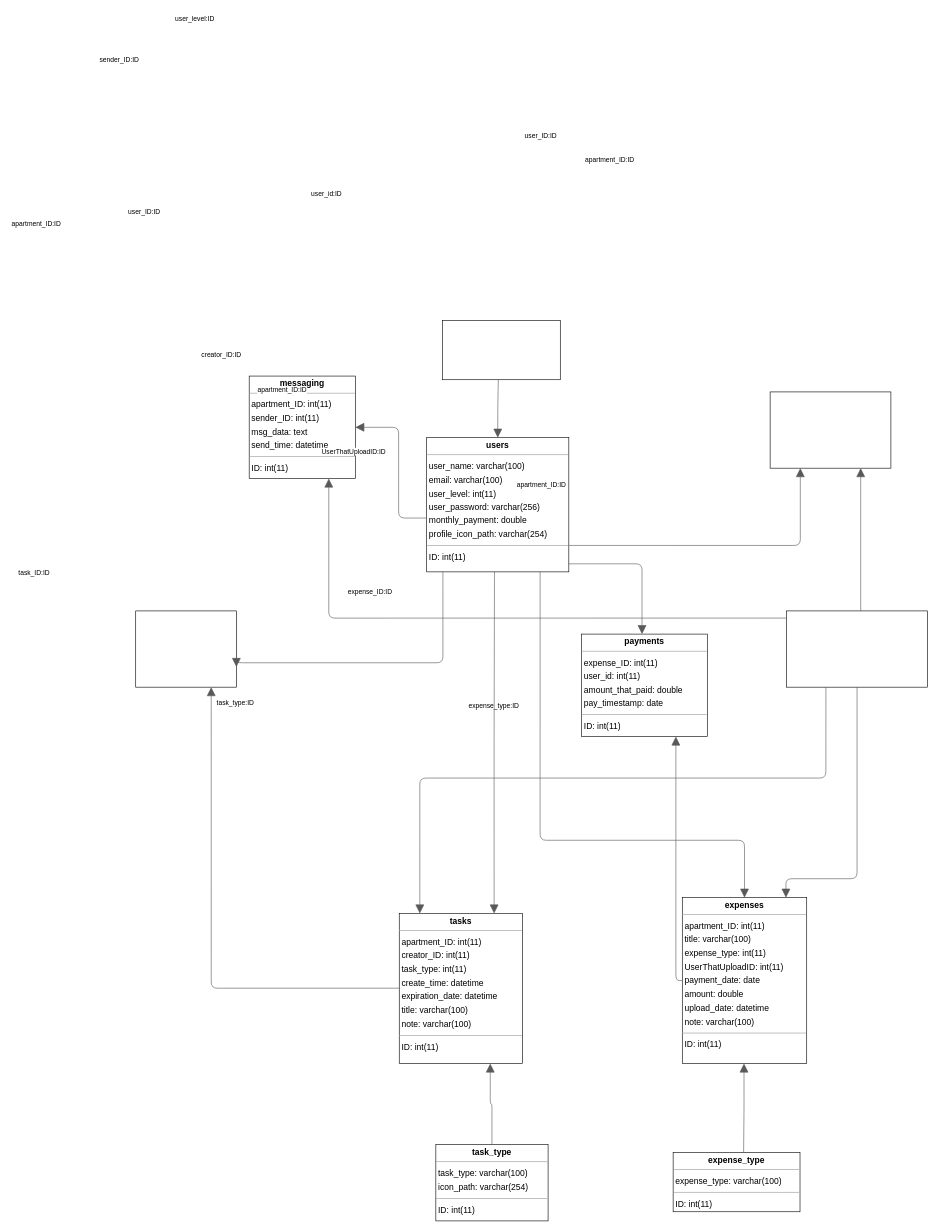
This 938x1232 diagram has some shape labels left out. Here are the shapes that lost their labels. From the top down, the box of each, then its label:
(442, 320, 560, 380): user_level level_name: varchar(100) ID: int(11)
(770, 391, 891, 468): user_in_apartment apartment_ID: int(11) user_ID: int(11) ID: int(11)
(135, 610, 236, 687): tasks_per_user task_ID: int(11) user_ID: int(11) ID: int(11)
(786, 610, 928, 687): apartments apartment_name: varchar(100) number_of_people: tinyint(4) ID: int(11)
